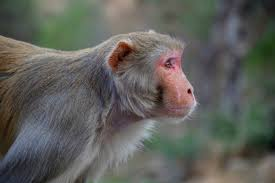monkey: (6, 25, 241, 168)
